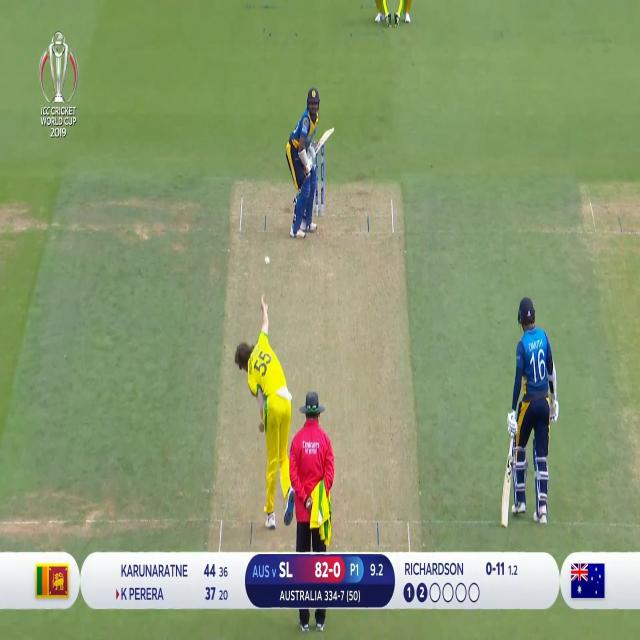ball: (262, 252, 274, 270)
